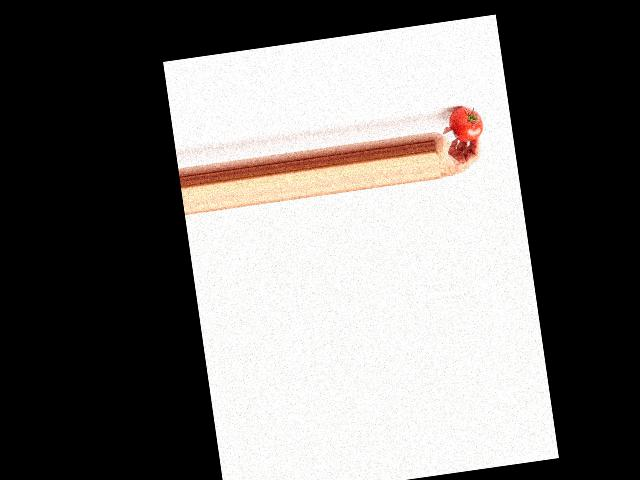tomato: (447, 104, 485, 143)
